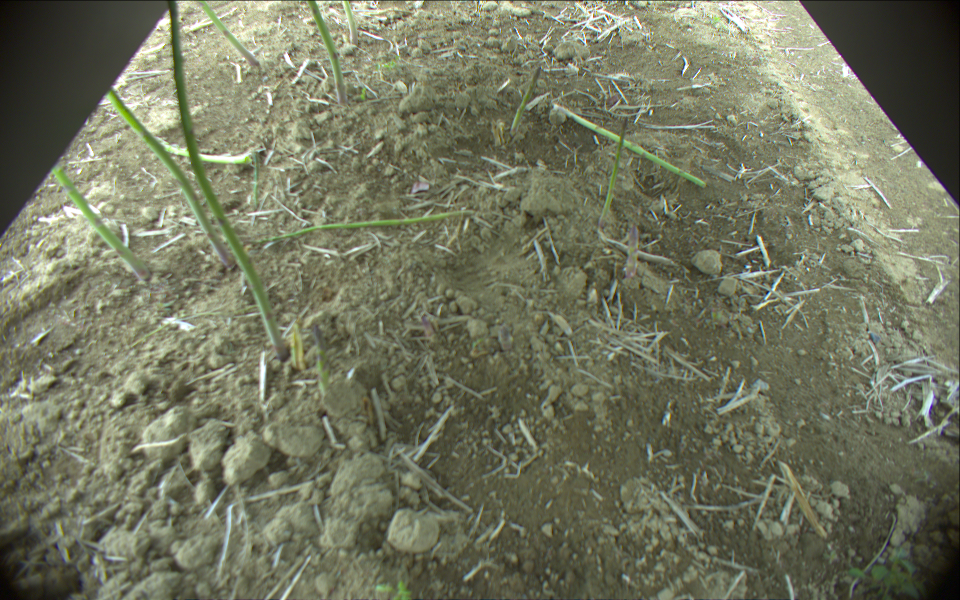aspa: (167, 1, 289, 360), (106, 86, 234, 268), (552, 102, 712, 189), (50, 165, 151, 282), (244, 209, 475, 247), (194, 1, 262, 70), (305, 1, 350, 103), (597, 114, 630, 227), (147, 137, 255, 166), (510, 67, 543, 137), (313, 322, 329, 397), (622, 222, 642, 279), (341, 1, 360, 46), (291, 324, 303, 368)
